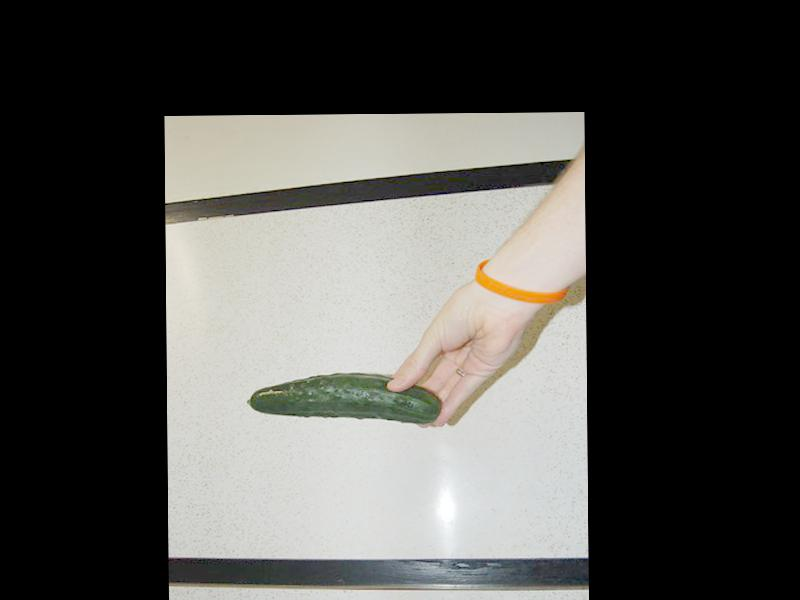Cucumber: (245, 374, 442, 426)
